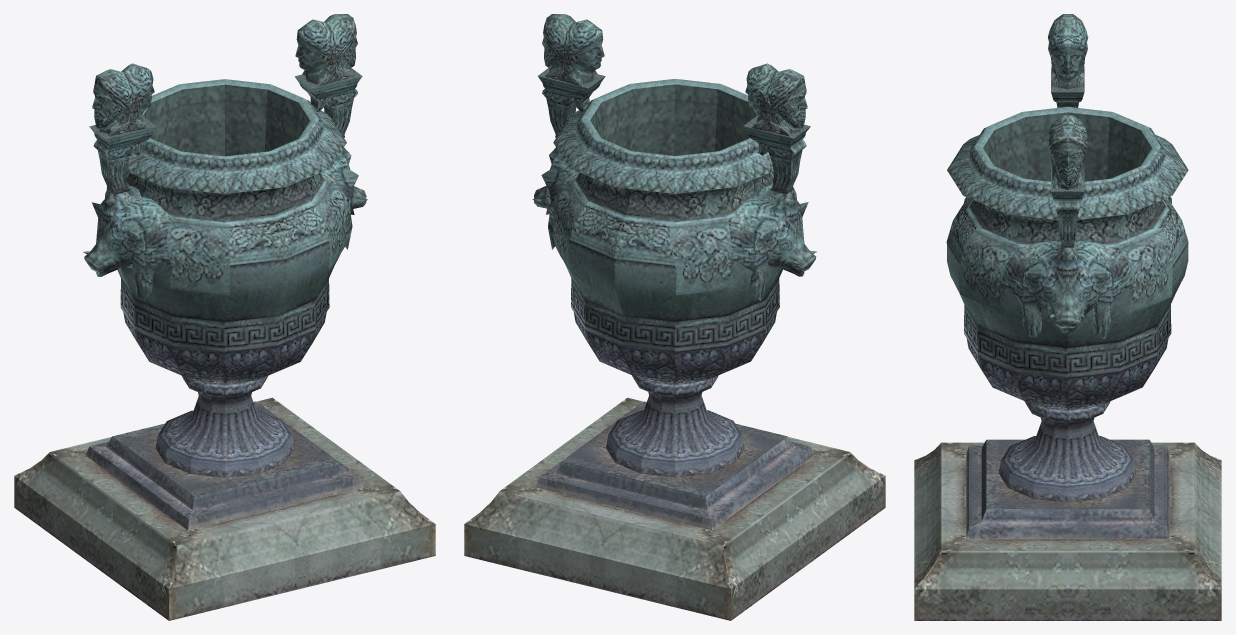
The model's file is StreetDeco01.FBX.
3 views of the same model, side by side, from view 1: azimuth 30°, elevation 25°; view 2: azimuth 150°, elevation 25°; view 3: azimuth 270°, elevation 25° (orthographic).
Parts seen in each view (by area): view 1: LV_Spechia_Object_StreetDeco_SM_NWCREX; view 2: LV_Spechia_Object_StreetDeco_SM_NWCREX; view 3: LV_Spechia_Object_StreetDeco_SM_NWCREX.
Part boxes in pixels (x1=…): LV_Spechia_Object_StreetDeco_SM_NWCREX: x1=14, y1=14, x2=435, y2=620; LV_Spechia_Object_StreetDeco_SM_NWCREX: x1=464, y1=14, x2=885, y2=620; LV_Spechia_Object_StreetDeco_SM_NWCREX: x1=914, y1=14, x2=1221, y2=620.
Size of the model in its own units: 51.39 by 86.24 by 49.53.
